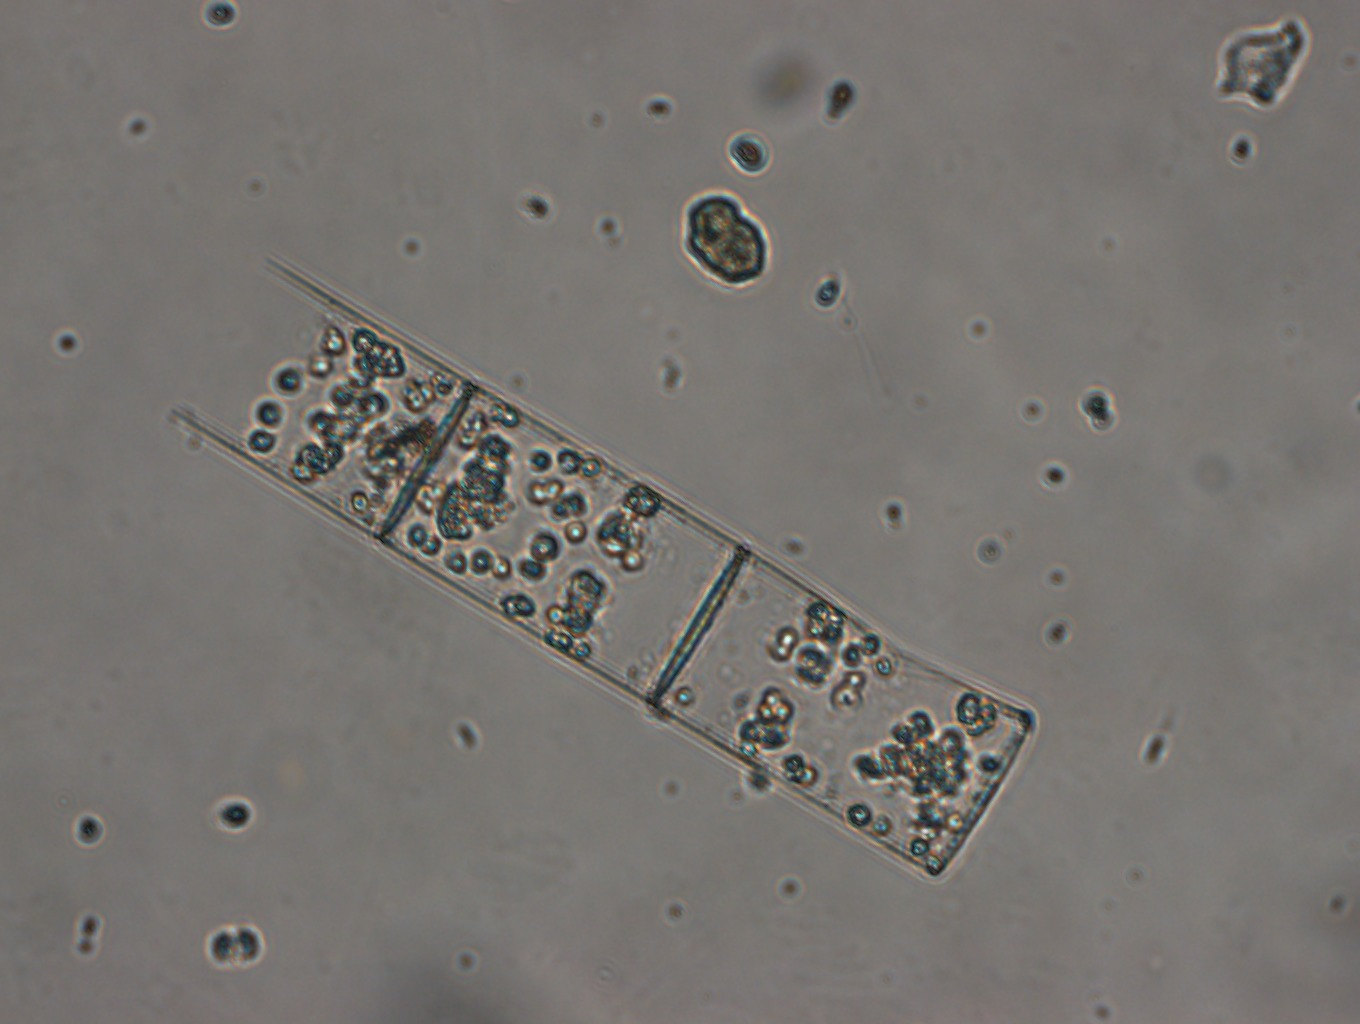guinardia flaccida: (145, 240, 1048, 878)
